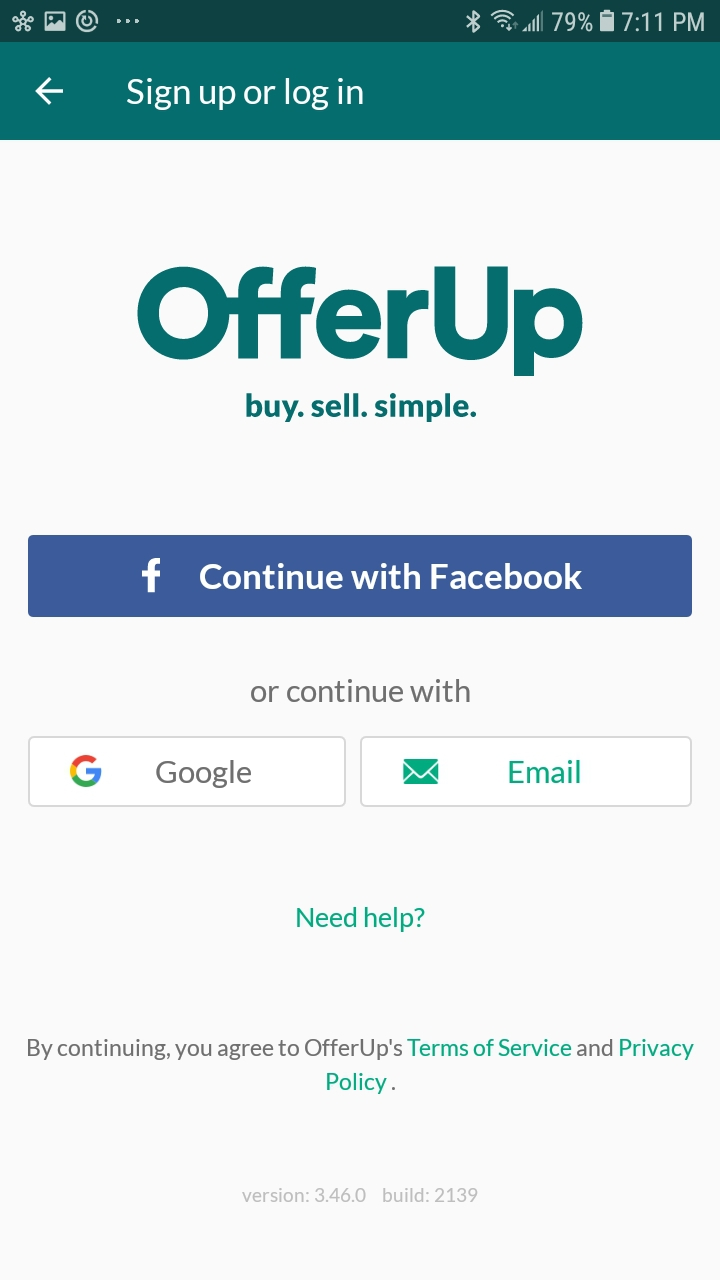Icon: (35, 78, 64, 106)
Text: (136, 266, 584, 378), (28, 1038, 694, 1094), (127, 78, 364, 112), (245, 392, 477, 423), (250, 679, 471, 703), (242, 1187, 479, 1203), (297, 906, 426, 933)
TextButton: (29, 535, 693, 618), (360, 736, 692, 807), (28, 735, 347, 808)
UpperTaskBar: (1, 1, 720, 43)
